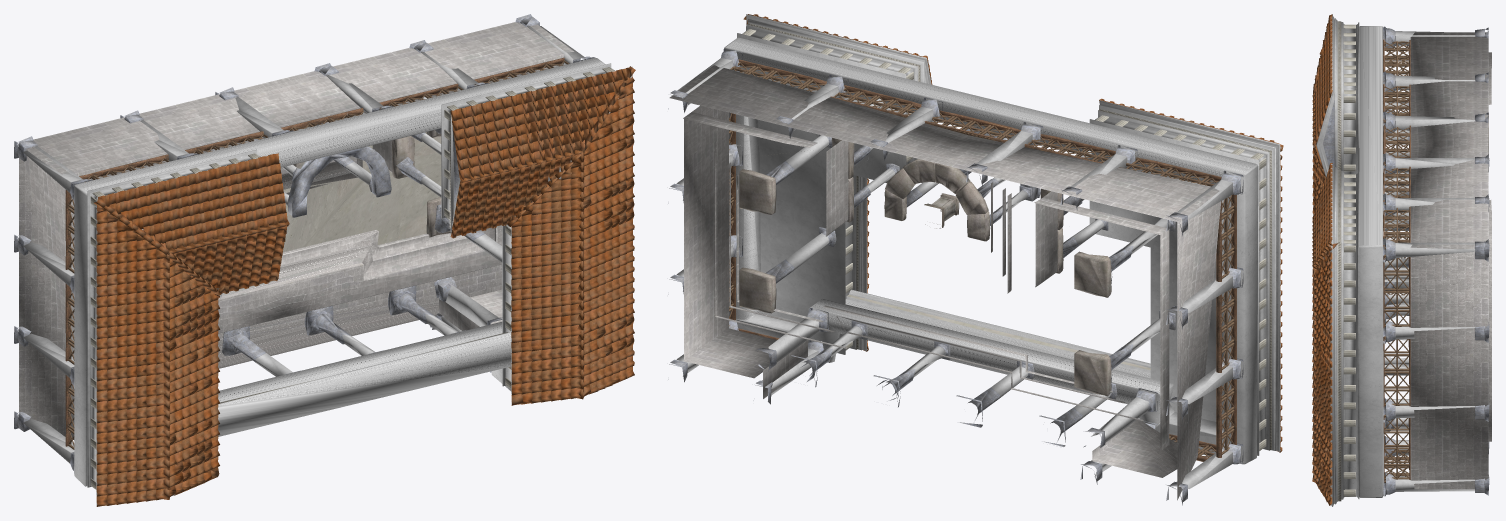
File: edificio_greco_bouleuterion.gltf
3 renders of one model, left to right at view 1: azimuth 30°, elevation 25°; view 2: azimuth 150°, elevation 25°; view 3: azimuth 270°, elevation 25°, orthographic. The views are drawn at different scales.
Visible parts, largest first — view 1: edificio_greco_bouleuterion; view 2: edificio_greco_bouleuterion; view 3: edificio_greco_bouleuterion.
Part boxes in pixels (x1,y1,x2,y2): edificio_greco_bouleuterion: (14,14,635,506); edificio_greco_bouleuterion: (668,14,1283,505); edificio_greco_bouleuterion: (1312,14,1491,506).
Size of the model in its own units: 19.82 by 10.94 by 6.6.
Materials: 10 (10 with a texture image).
